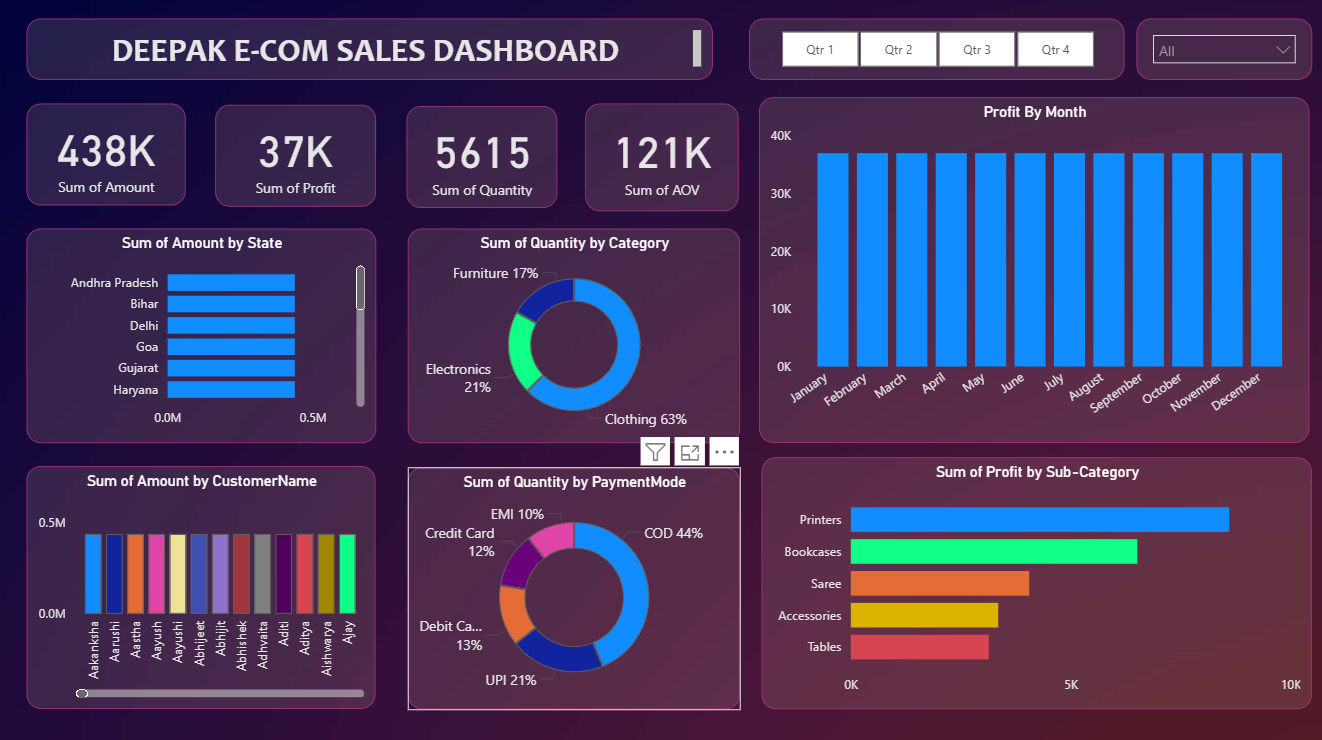

What the dashboard file says about the page in this screenshot:
{"tool":"powerbi","page":{"name":"Page 1","canvas":[1280,720],"ordinal":0},"visuals":[{"type":"textbox","box":[26.7,22.1,662.8,59.3],"z":0},{"type":"columnChart","title":"Profit By Month","fields":{"Category":["Orders.Order Date.Variation.Date Hierarchy.Month"],"Y":["Sum(Details.Profit)"]},"box":[733.7,97.7,531.4,333.7],"z":1000},{"type":"barChart","fields":{"Category":["Details.Sub-Category"],"Y":["Sum(Details.Profit)"]},"box":[736,445.4,531.4,243],"z":2000},{"type":"donutChart","fields":{"Category":["Details.Category"],"Y":["Sum(Details.Quantity)"]},"box":[394.2,224.4,320.9,207],"z":3000},{"type":"donutChart","fields":{"Y":["Sum(Details.Quantity)"],"Category":["Details.PaymentMode"]},"box":[394.2,454.7,320.9,233.7],"z":4000},{"type":"card","fields":{"Values":["Sum(Details.Amount)"]},"box":[27,103.8,153.6,98.4],"z":5000},{"type":"card","fields":{"Values":["Sum(Details.Quantity)"]},"box":[393.5,106.5,145.5,98.4],"z":6000},{"type":"card","fields":{"Values":["Sum(Details.Profit)"]},"box":[208.9,105.1,155,98.4],"z":7000},{"type":"card","fields":{"Values":["Sum(Details.AOV)"]},"box":[566,103.8,148.2,103.8],"z":8000},{"type":"barChart","fields":{"Category":["Orders.State"],"Y":["Sum(Details.Amount)"]},"box":[26.7,224.4,337.2,207],"z":9000},{"type":"columnChart","fields":{"Category":["Orders.CustomerName"],"Y":["Sum(Details.Amount)"]},"box":[27,454.2,336.9,234.5],"z":10000},{"type":"slicer","fields":{"Values":["Orders.Order Date.Variation.Date Hierarchy.Quarter"]},"box":[724.4,22.1,362.8,59.3],"z":11000},{"type":"slicer","fields":{"Values":["Orders.State"]},"box":[1097.7,22.1,169.8,59.3],"z":12000}]}

Visuals, with their boxes in screenshot pixels (x1, y1, x2, y2), scaled from the page's 1280x720 canvas onto the 1322x740 screenshot:
textbox: 28:23:712:84
"Profit By Month" columnChart: 758:100:1307:443
barChart - Details.Sub-Category x Sum(Details.Profit): 760:458:1309:708
donutChart - Details.Category x Sum(Details.Quantity): 407:231:739:443
donutChart - Sum(Details.Quantity) x Details.PaymentMode: 407:467:739:708
card - Sum(Details.Amount): 28:107:187:208
card - Sum(Details.Quantity): 406:109:557:211
card - Sum(Details.Profit): 216:108:376:209
card - Sum(Details.AOV): 585:107:738:213
barChart - Orders.State x Sum(Details.Amount): 28:231:376:443
columnChart - Orders.CustomerName x Sum(Details.Amount): 28:467:376:708
slicer - Orders.Order Date.Variation.Date Hierarchy.Quarter: 748:23:1123:84
slicer - Orders.State: 1134:23:1309:84
